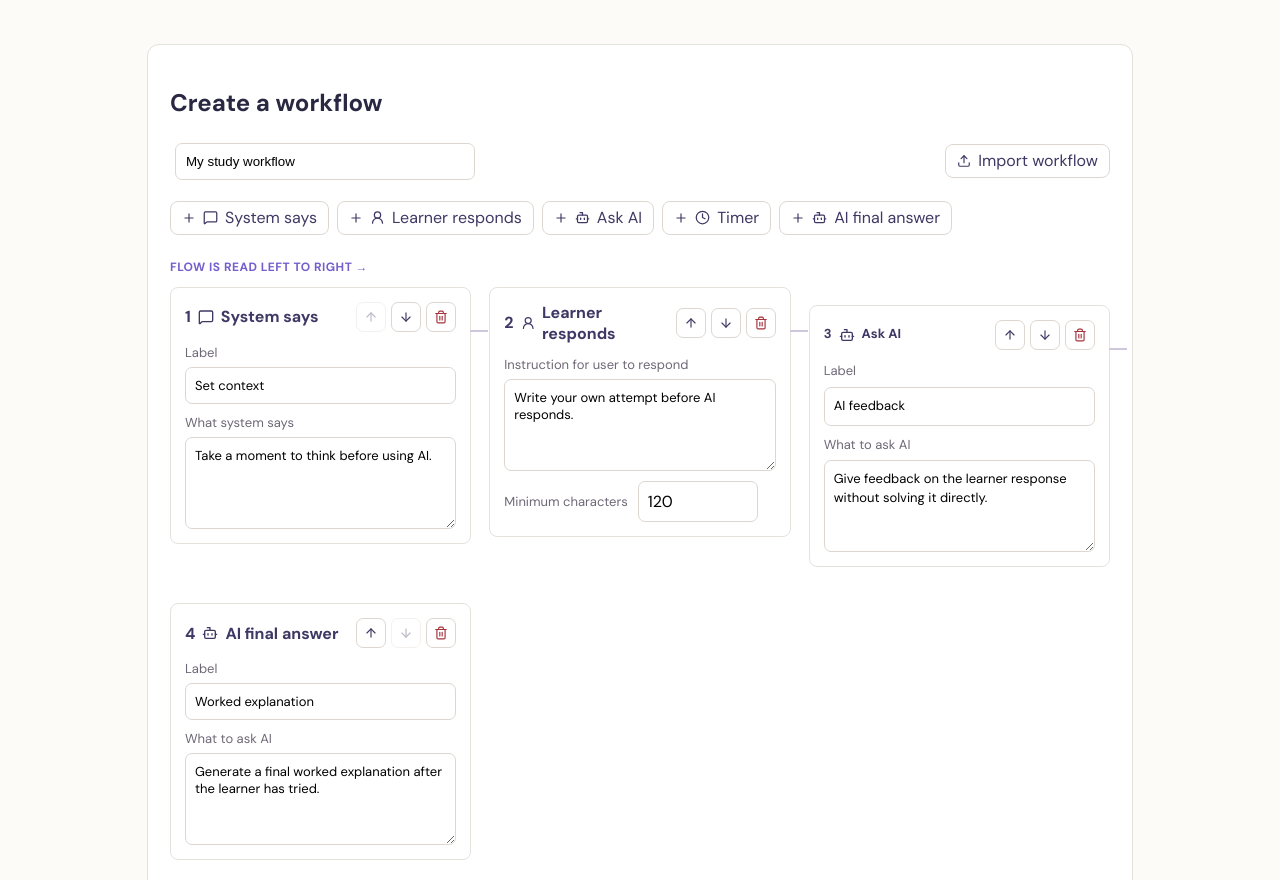
WorkflowBuilder › shows a validation message and disables save when the minimum is out of range
The image size is (1280, 880).
Replace the text in the number field labelled "Minimum characters" with "20000" at {"x": 698, "y": 501}, box 638,481 -> 758,522
(page scrolled)
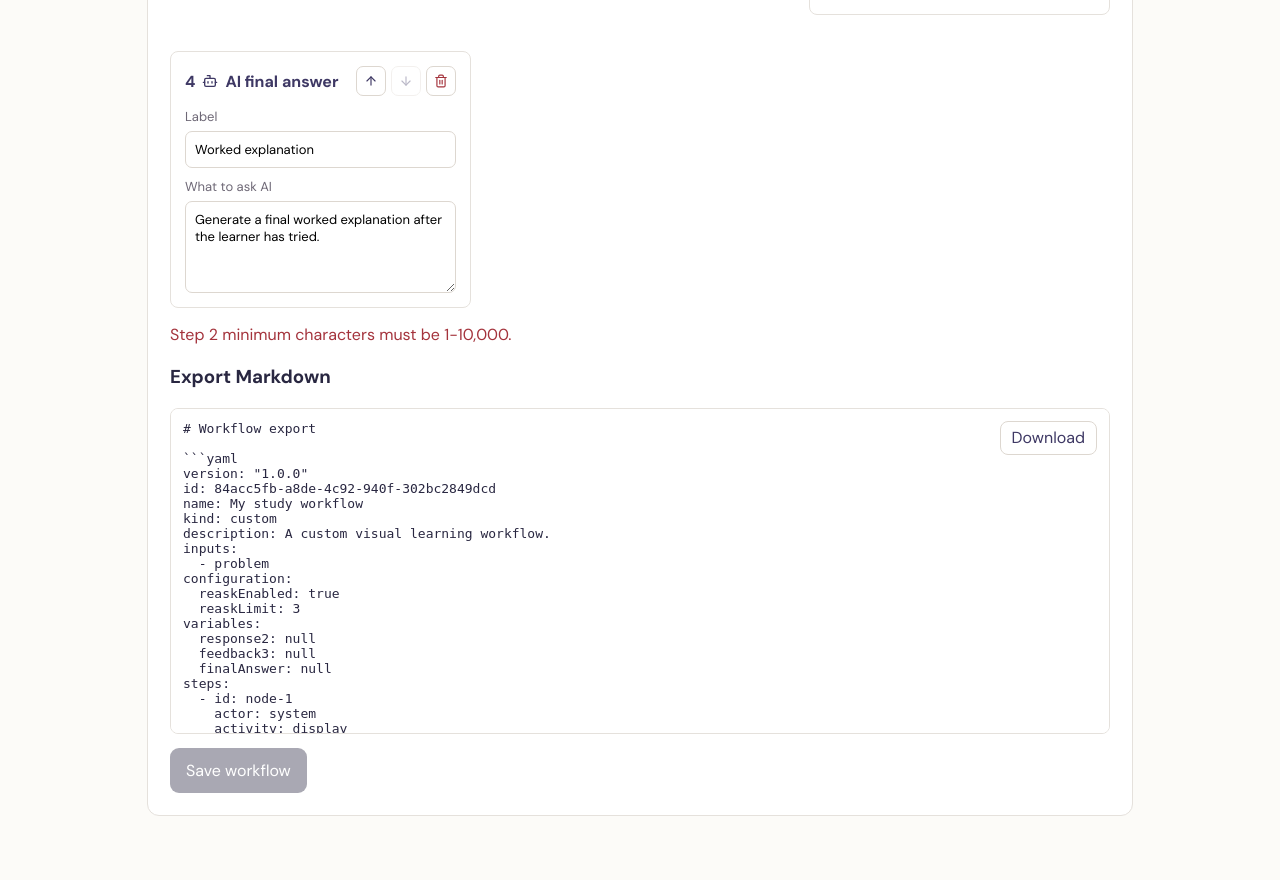
Result: the text "Step 2 minimum characters must be 1-10,000." is shown at 170,324 -> 512,345
Result: the button "Save workflow" is disabled at 170,748 -> 307,793
